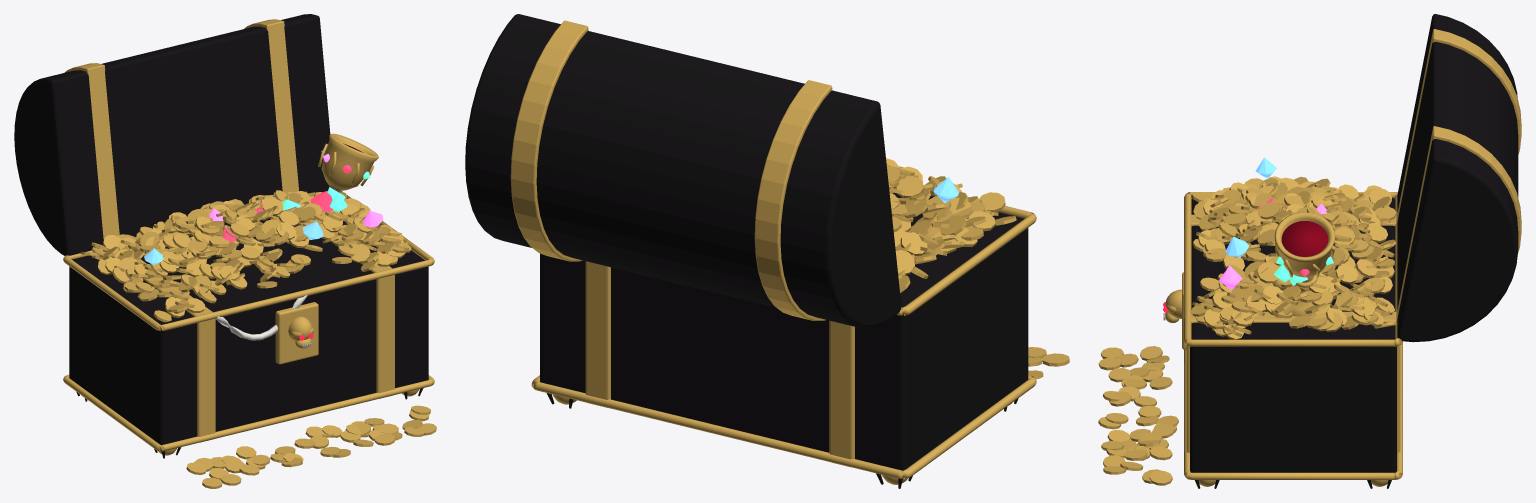
File: wc-treasure-chest.glb
3 views of the same model, side by side, from view 1: azimuth 30°, elevation 25°; view 2: azimuth 150°, elevation 25°; view 3: azimuth 270°, elevation 25° (orthographic). The views are drawn at different scales.
Parts seen in each view (by area): view 1: Part0__BlackLacquer__18_16_18; view 2: Part0__BlackLacquer__18_16_18; view 3: Part0__BlackLacquer__18_16_18.
Boxes of the visible parts, bbox=[...] form: Part0__BlackLacquer__18_16_18: bbox=[14, 14, 436, 488]; Part0__BlackLacquer__18_16_18: bbox=[465, 14, 1069, 488]; Part0__BlackLacquer__18_16_18: bbox=[1098, 14, 1521, 488].
Bounding box in the file's own units: 1.69 × 1.77 × 2.
